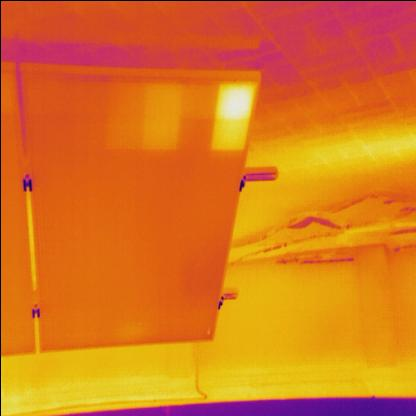hotspot: (211, 76, 252, 154), (104, 78, 146, 150), (143, 81, 182, 151)
